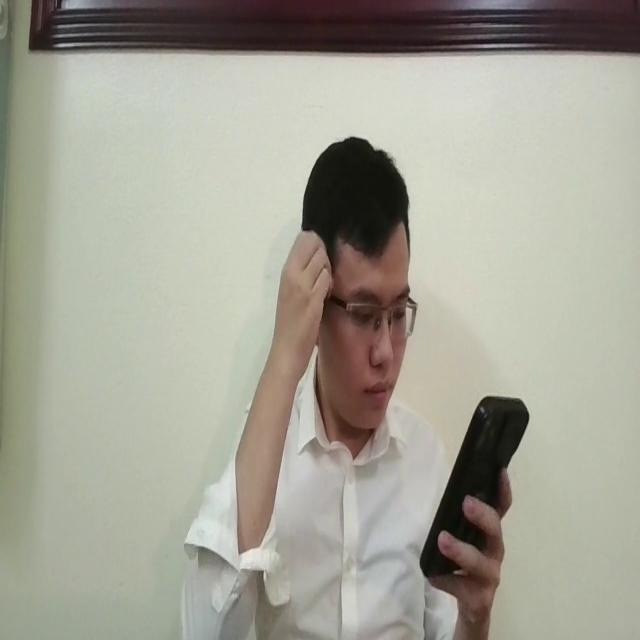phone: (419, 392, 528, 582)
student: (172, 135, 510, 640)
